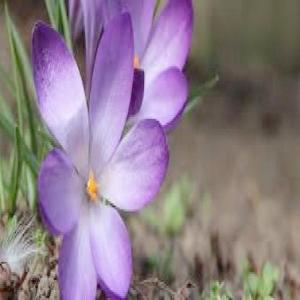Saffron: (31, 16, 167, 300)
